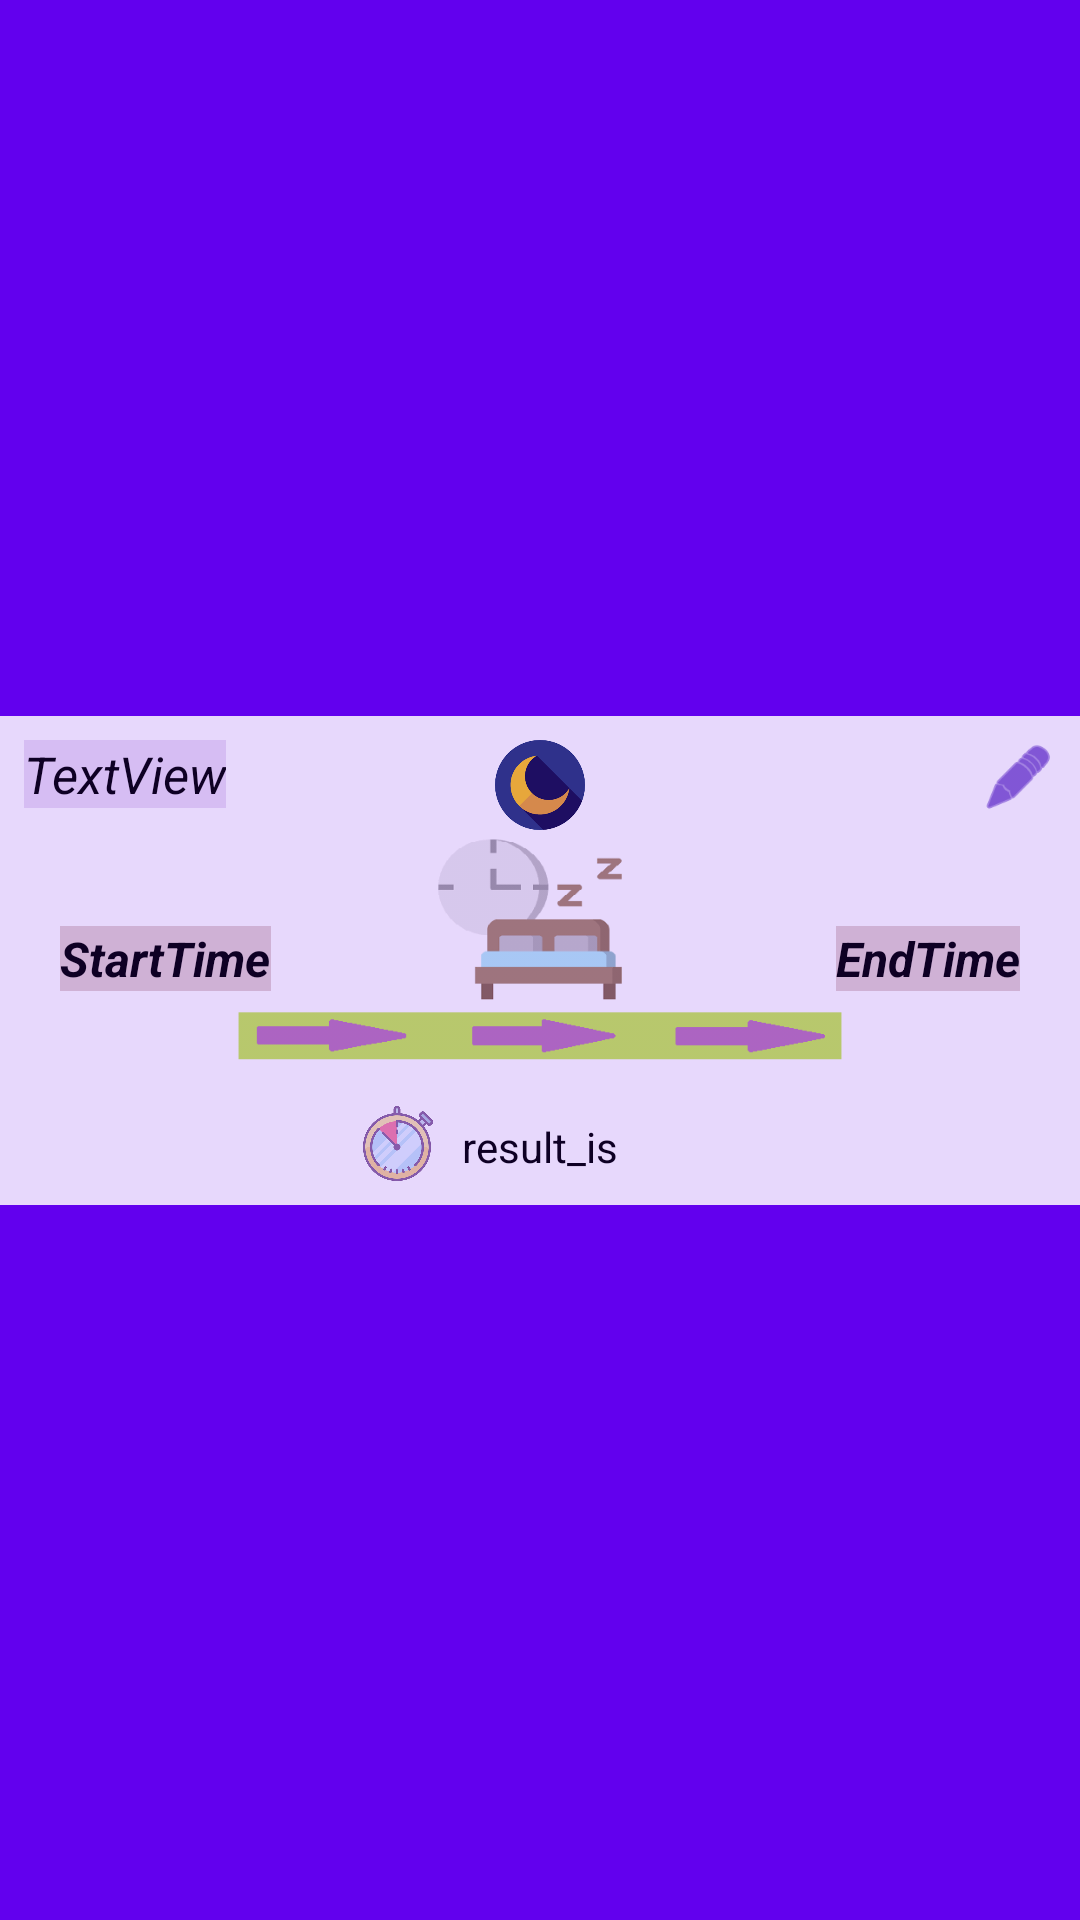

Icon click points for this 1080px×1920px phone screenshot, format point (x, y):
edit: point (1018, 777)
moon: point (540, 785)
stopwatch: point (398, 1143)
